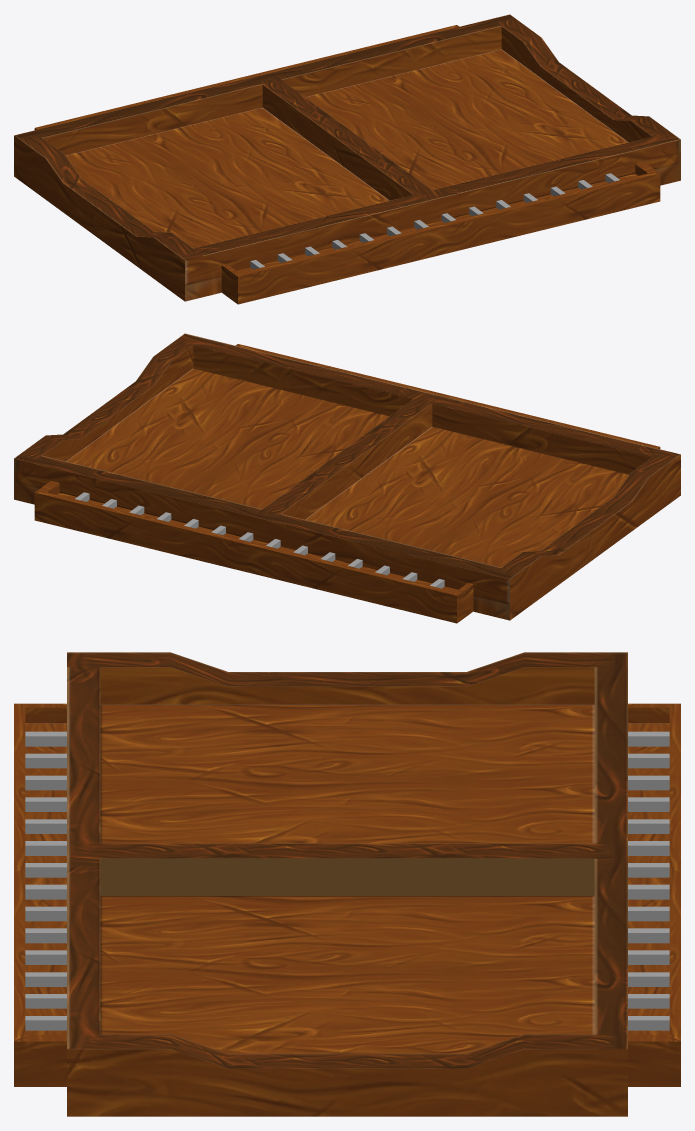
The model's file is Dice Board.fbx.
The picture shows the model from 3 angles, top to bottom: view 1: azimuth 30°, elevation 25°; view 2: azimuth 150°, elevation 25°; view 3: azimuth 270°, elevation 25°; orthographic projection. The views are drawn at different scales.
Parts seen in each view (by area): view 1: Battle_Dice_Board, polySurface3; view 2: Battle_Dice_Board, polySurface3; view 3: Battle_Dice_Board, polySurface3.
Boxes of the visible parts, x1=… form: Battle_Dice_Board: x1=14, y1=14, x2=680, y2=304; polySurface3: x1=250, y1=173, x2=619, y2=269; Battle_Dice_Board: x1=14, y1=333, x2=680, y2=623; polySurface3: x1=75, y1=492, x2=444, y2=588; Battle_Dice_Board: x1=14, y1=652, x2=680, y2=1116; polySurface3: x1=25, y1=731, x2=669, y2=1030.
Size of the model in its own units: 127 by 10.05 by 90.31.
